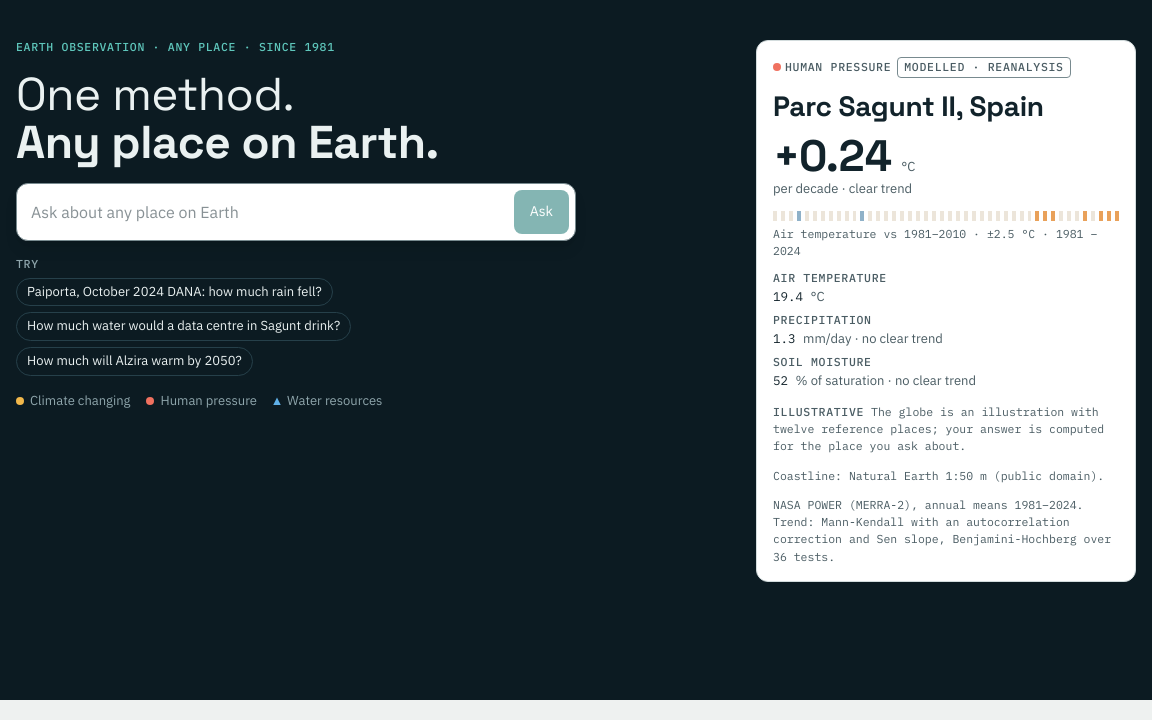
an ambiguous other place shows its own candidates
Type "What happens with the burnt refineries in the gulf?" into the search field named "Your question" at [264, 212], box [23,190,506,234]
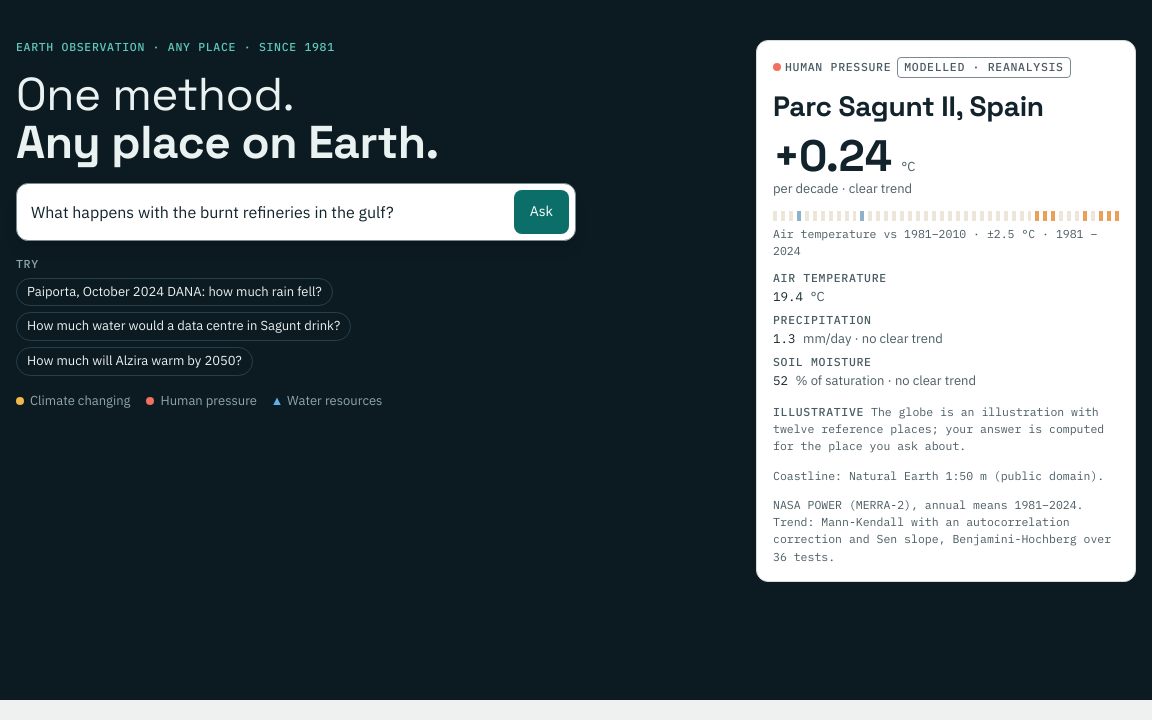
Click the button "Ask" at [541, 212], box [514,190,569,234]
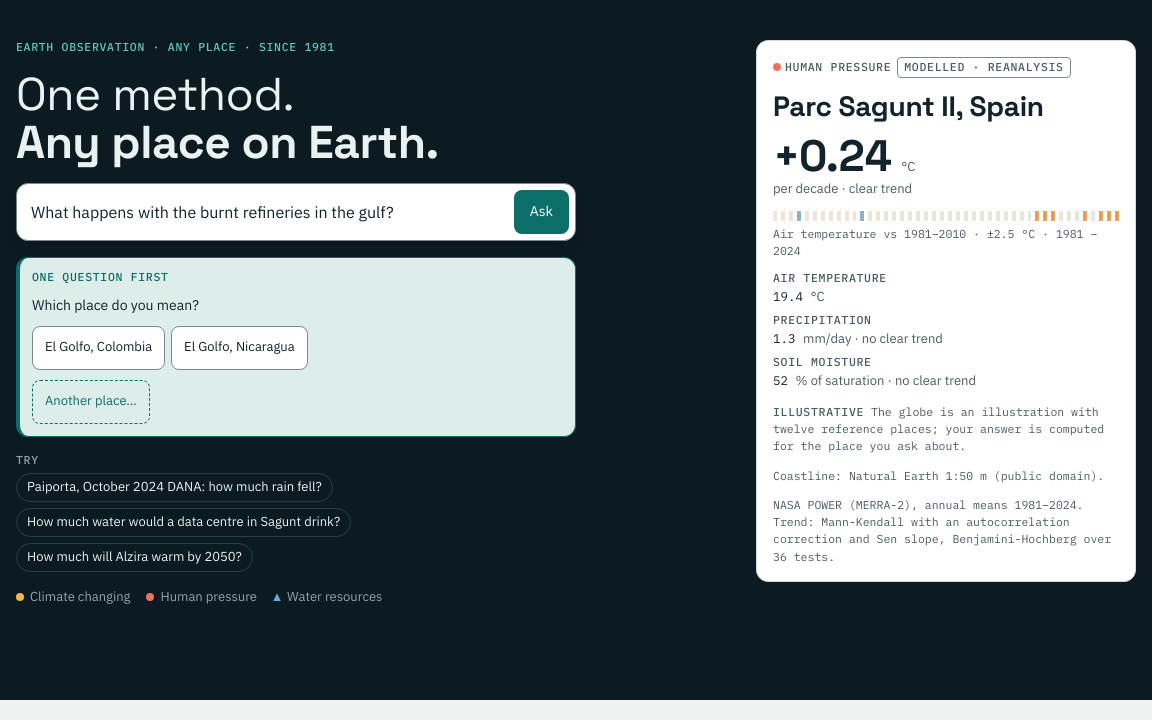
Click the button "Another place…" at [91, 402], box [32,380,150,424]
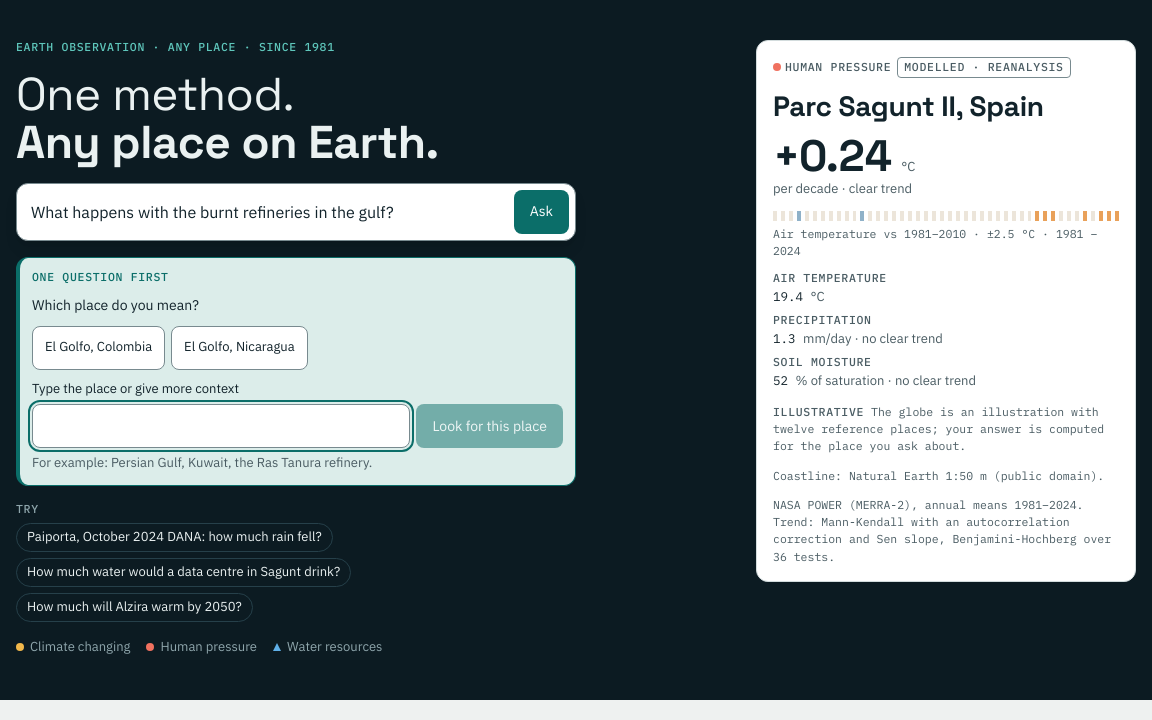
Type "Kuwait" into the field labelled "Type the place or give more context" at [221, 426], box [32,404,410,448]
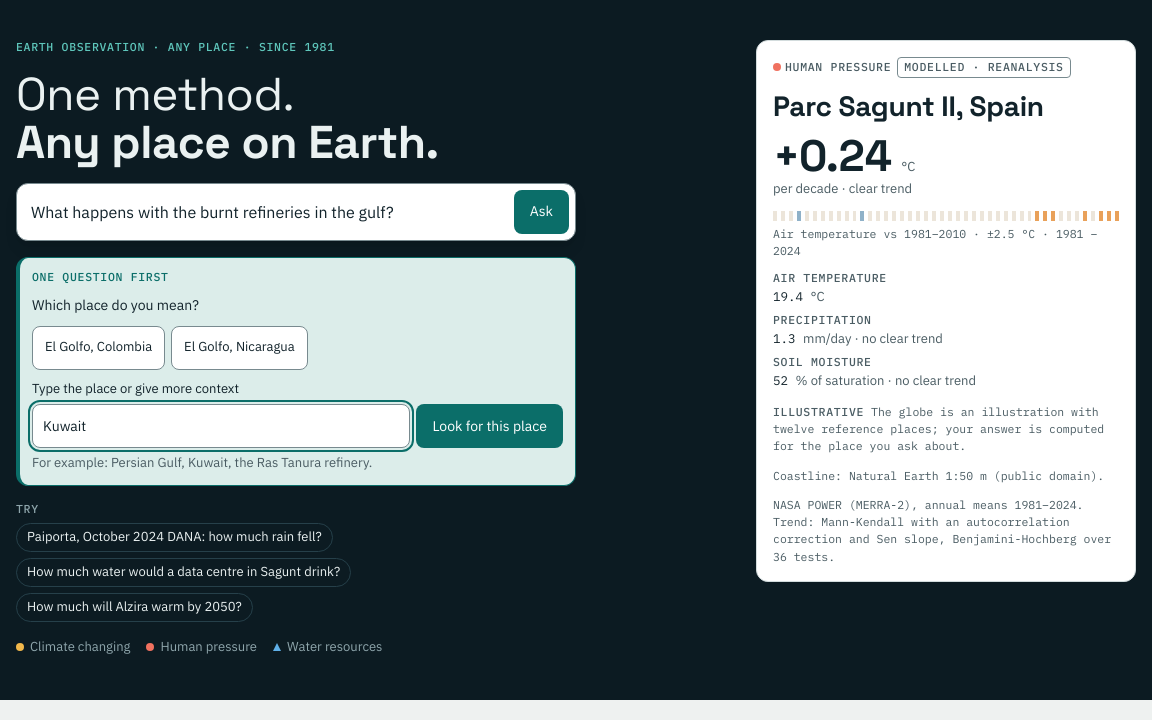
Click the button "Look for this place" at [490, 426], box [416,404,563,448]
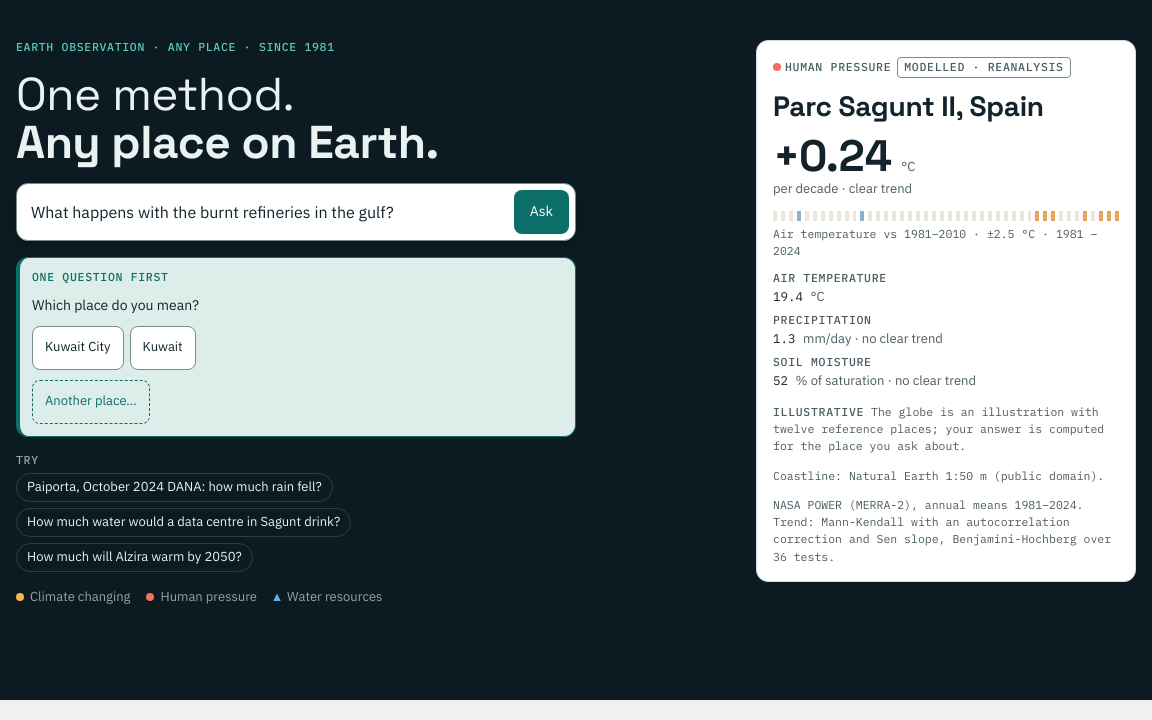
Now the button "Kuwait City" is shown, box [32,326,124,370]
Now the button "El Golfo, Colombia" is gone
